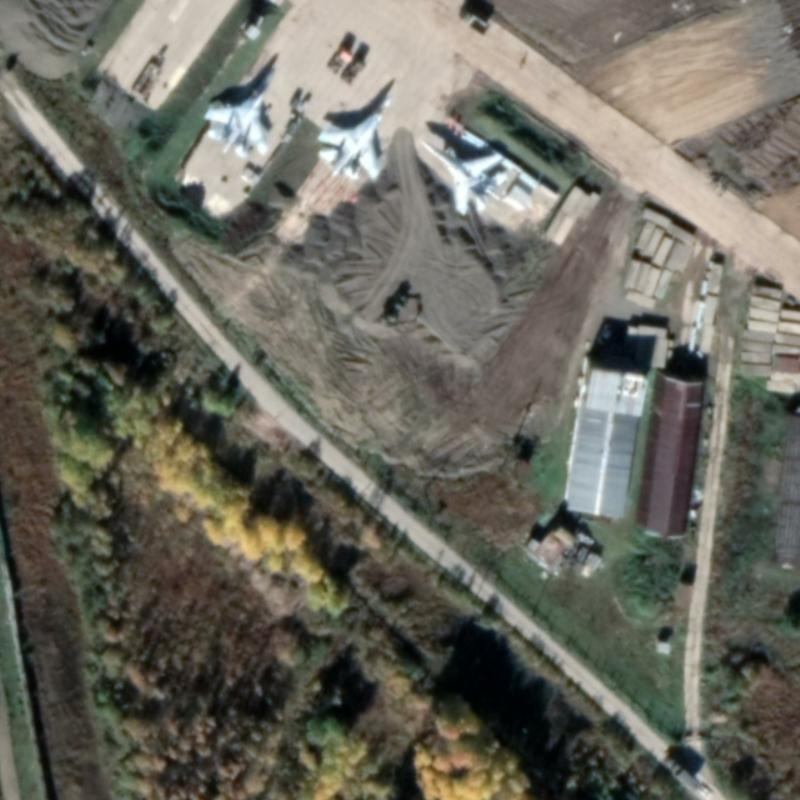A1: (201, 62, 279, 161), (413, 134, 507, 216), (313, 94, 395, 184)
